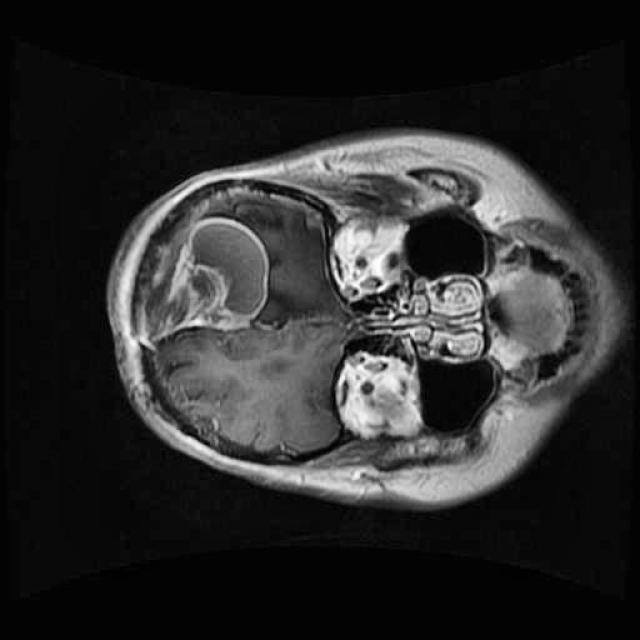Tumor: (132, 201, 276, 351)
